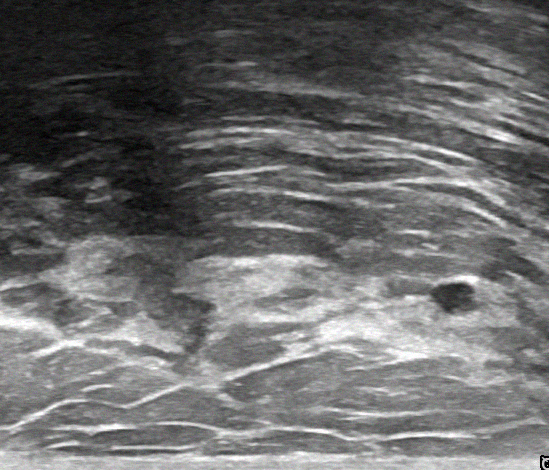Benign: (429, 275, 481, 318)
